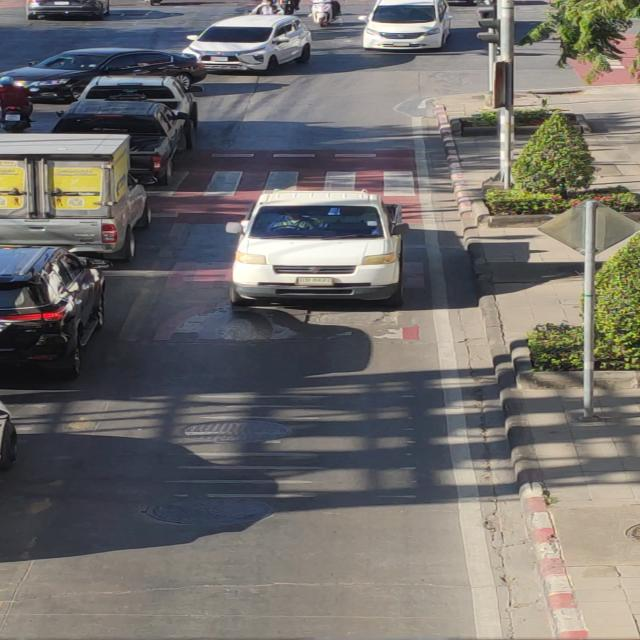car: (213, 184, 419, 317)
